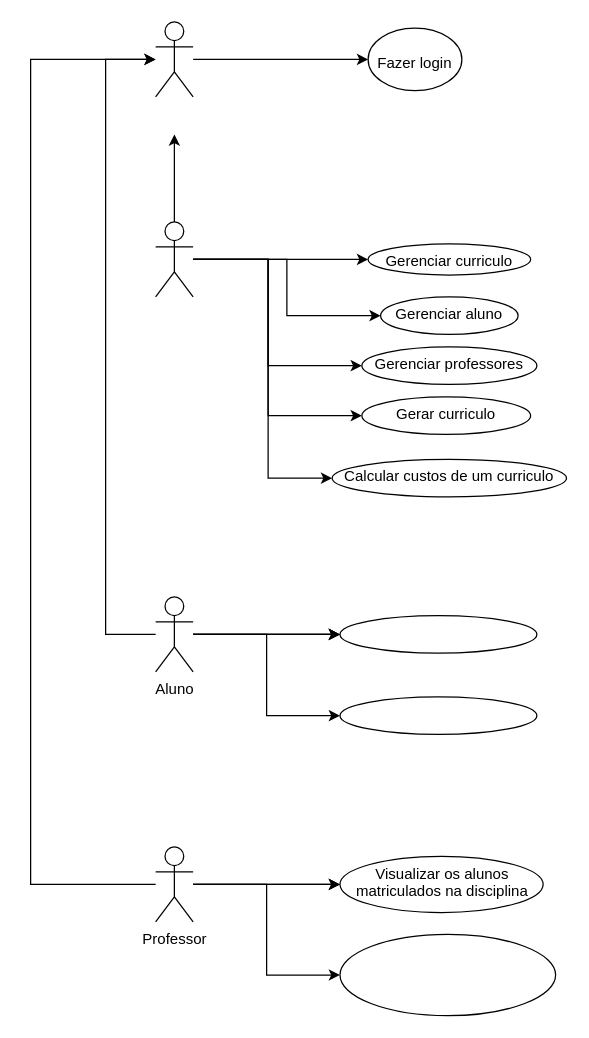
The diagram is 589 pixels wide and 1038 high, and some of its shapes have lost their labels. The centre of each missing label's shape, as x and y in pixels:
"Adicionar uma disciplina" goes at pixel 438 715.
"Gerenciar curso" goes at pixel 438 633.
"Secretaria" goes at pixel 173 259.
"Usuario" goes at pixel 173 59.
"Visualizar informações sobre uma disciplina" goes at pixel 447 974.
